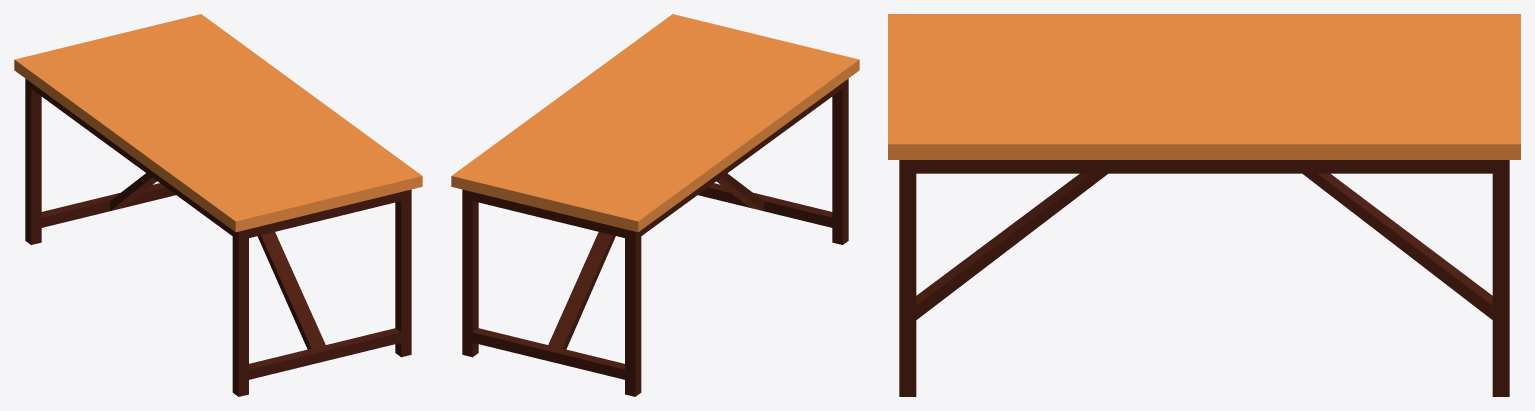
Rendered from large table.FBX.
The picture shows the model from 3 angles, left to right: view 1: azimuth 30°, elevation 25°; view 2: azimuth 150°, elevation 25°; view 3: azimuth 270°, elevation 25°; orthographic projection. The views are drawn at different scales.
Parts seen in each view (by area): view 1: large_table; view 2: large_table; view 3: large_table.
Part boxes in pixels (x1,y1,x2,y2): large_table: [14, 14, 422, 396]; large_table: [451, 14, 859, 396]; large_table: [888, 14, 1520, 396].
Bounding box in the file's own units: 37.16 × 34.22 × 76.23.
Materials: 1 (1 with a texture image).
